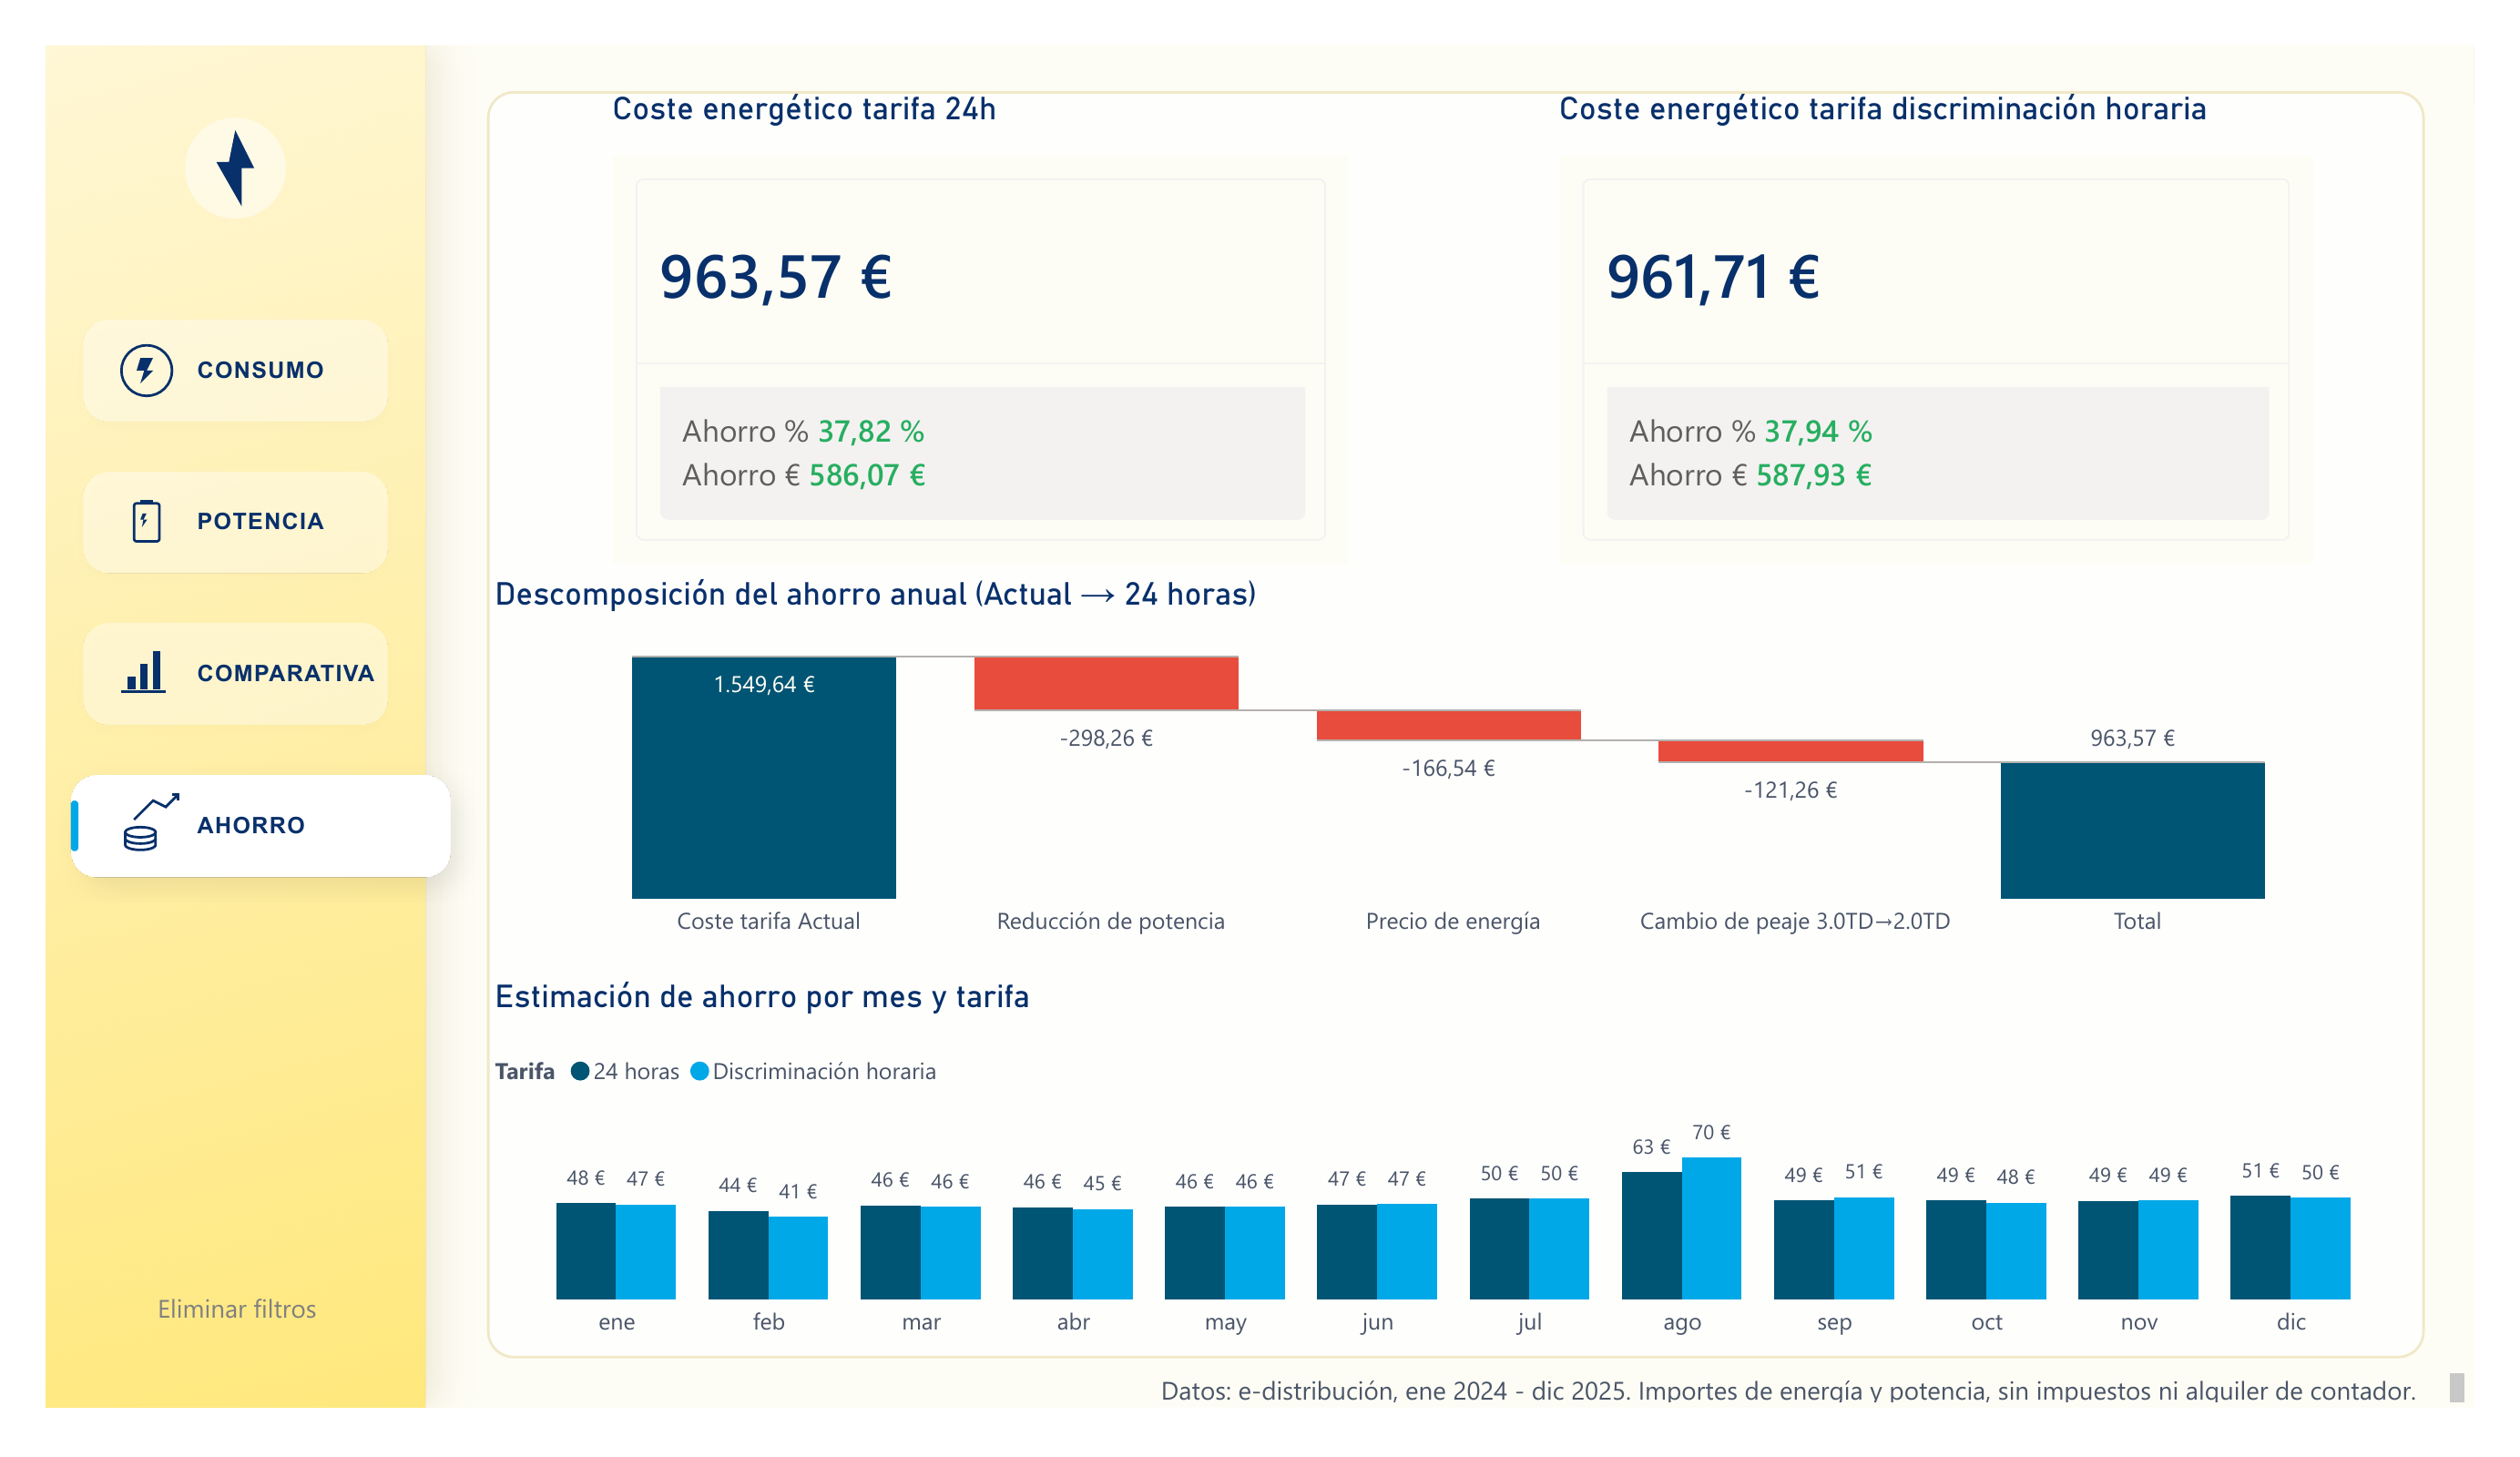

Layout of this report page (visuals, bound fields, positions):
{"tool":"powerbi","page":{"name":"Ahorro","canvas":[1280,720],"ordinal":3},"visuals":[{"type":"lineClusteredColumnComboChart","title":"Estimación de ahorro por mes y tarifa","fields":{"Series":["T_tarifas.Tarifa"],"Y":["_Medidas.Ahorro €"],"Category":["Calendario.AñoMes"]},"box":[231.9,491.3,1020.7,200.1],"z":0},{"type":"cardVisual","title":"Coste energético tarifa 24h","fields":{"Data":["_Medidas.Subtotal Costes"]},"box":[294.5,23.3,398,255.1],"z":1000},{"type":"cardVisual","title":"Coste energético tarifa discriminación horaria","fields":{"Data":["_Medidas.Subtotal Costes"]},"box":[793.1,23.3,406.7,255.1],"z":2000},{"type":"actionButton","box":[22.9,145.3,156.8,57.4],"z":3000},{"type":"actionButton","box":[22.9,223.1,156.8,54.8],"z":4000},{"type":"actionButton","box":[22.9,304.7,156.8,54.8],"z":5000},{"type":"waterfallChart","title":"Descomposición del ahorro anual (Actual → 24 horas)","fields":{"Category":["Palancas.Palanca"],"Y":["Palancas.Valor Palanca"]},"box":[231.8,278.5,1020.5,201.2],"z":7000},{"type":"textbox","box":[582.5,695,697.5,25],"z":8000},{"type":"actionButton","box":[1.2,640,200,50],"z":9000}]}

Visuals, with their boxes on the page's 1280x720 design canvas (x1, y1, x2, y2). These are canvas units, not pixel positions in the 2520x1457 screenshot, which may show the page scaled, cropped or inside an application window:
"Estimación de ahorro por mes y tarifa" lineClusteredColumnComboChart: (x1=232, y1=491, x2=1253, y2=691)
"Coste energético tarifa 24h" cardVisual: (x1=294, y1=23, x2=692, y2=278)
"Coste energético tarifa discriminación horaria" cardVisual: (x1=793, y1=23, x2=1200, y2=278)
actionButton: (x1=23, y1=145, x2=180, y2=203)
actionButton: (x1=23, y1=223, x2=180, y2=278)
actionButton: (x1=23, y1=305, x2=180, y2=360)
"Descomposición del ahorro anual (Actual → 24 horas)" waterfallChart: (x1=232, y1=278, x2=1252, y2=480)
textbox: (x1=582, y1=695, x2=1280, y2=720)
actionButton: (x1=1, y1=640, x2=201, y2=690)
